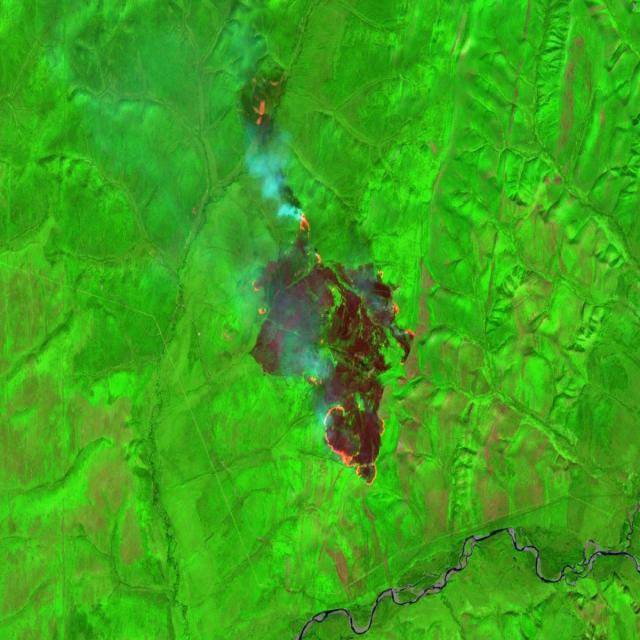fire: (248, 207, 417, 497)
